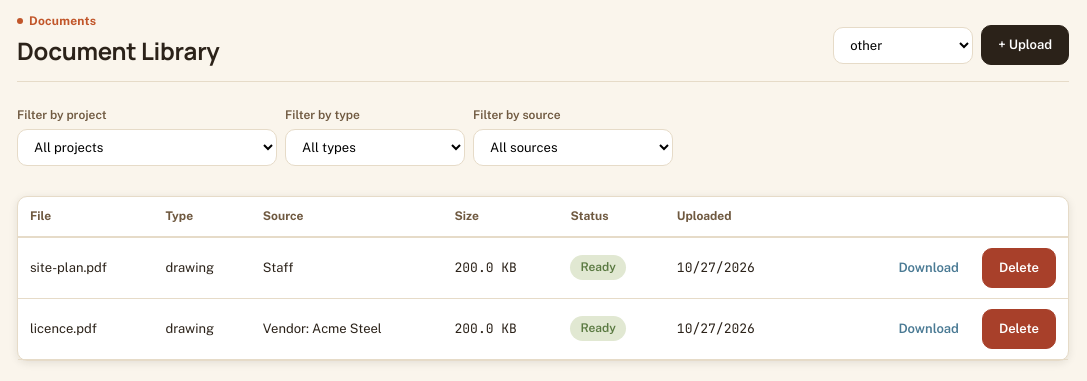
Scenario: DocumentLibraryPage › shows who uploaded a portal document and filters by source
Expected: the text "Vendor: Acme Steel" is shown, [251, 298, 443, 359]
Expected: the text "Staff" is shown, [251, 237, 443, 298]
Select "Vendor portal" in the dropdown labelled "Filter by source" at (573, 148), box [473, 129, 673, 166]
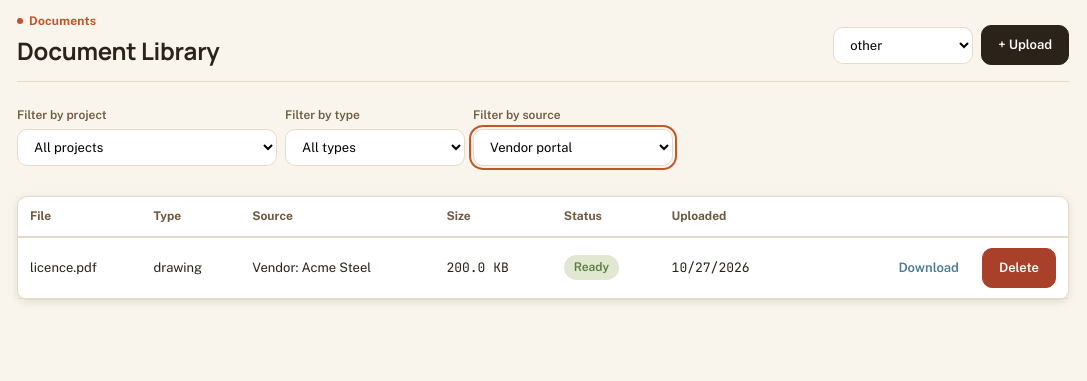
Expected: the text "licence.pdf" is shown, [18, 237, 142, 298]
Expected: the text "site-plan.pdf" is gone
